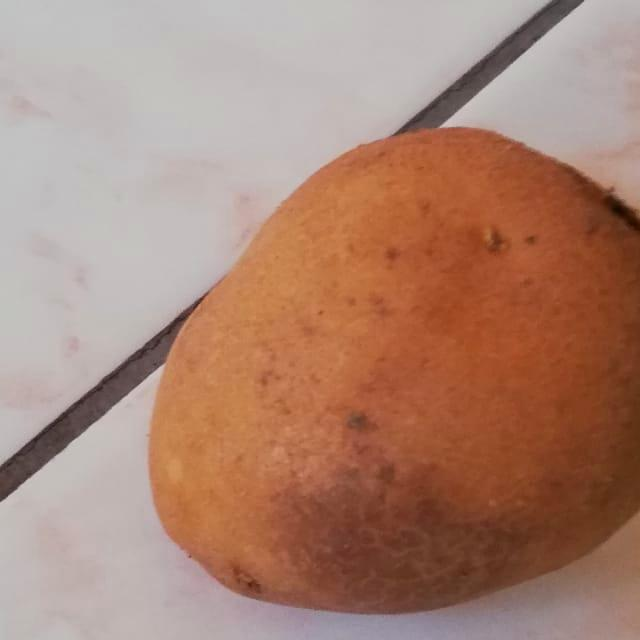potato: (135, 106, 640, 626)
